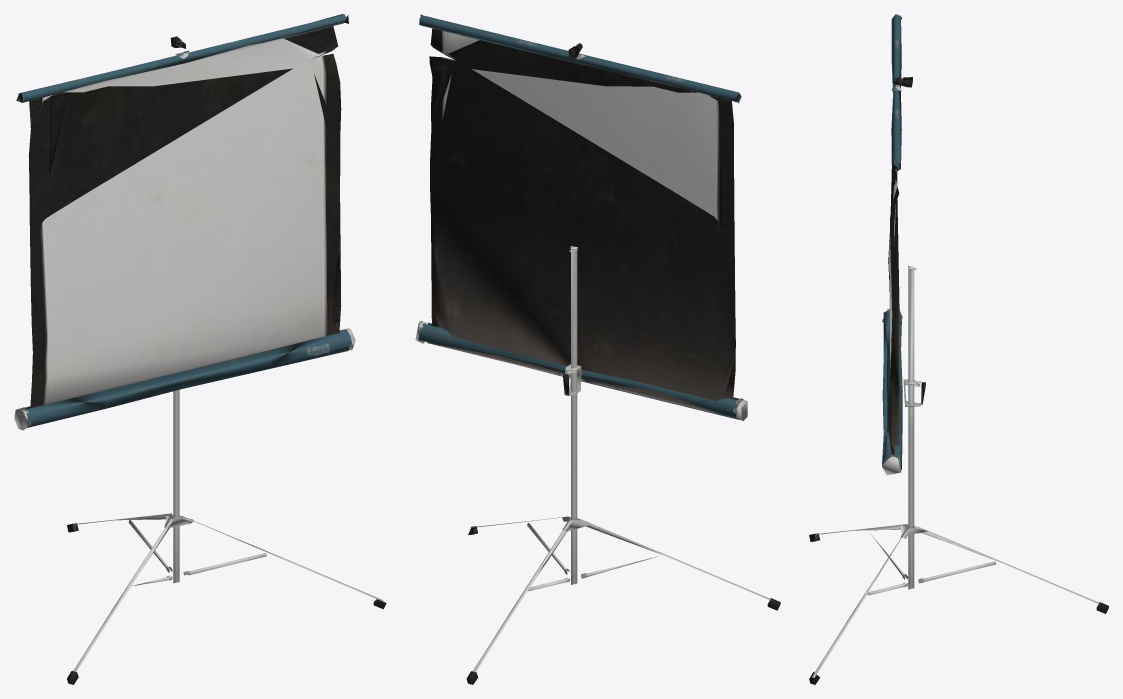
The model's file is projector_screen.glb.
3 renders of one model, left to right at view 1: azimuth 30°, elevation 25°; view 2: azimuth 150°, elevation 25°; view 3: azimuth 270°, elevation 25°, orthographic. The views are drawn at different scales.
Parts seen in each view (by area): view 1: projector_screen, projector_screen_frame; view 2: projector_screen, projector_screen_frame; view 3: projector_screen, projector_screen_frame.
Part boxes in pixels (<box>): projector_screen: <box>14,14,355,430</box>; projector_screen_frame: <box>67,389,386,684</box>; projector_screen: <box>415,14,747,420</box>; projector_screen_frame: <box>466,245,780,684</box>; projector_screen: <box>882,14,925,475</box>; projector_screen_frame: <box>809,265,1108,684</box>.
Bounding box in the file's own units: 1.09 × 1.8 × 0.9139.
2 materials, 2 textured.
